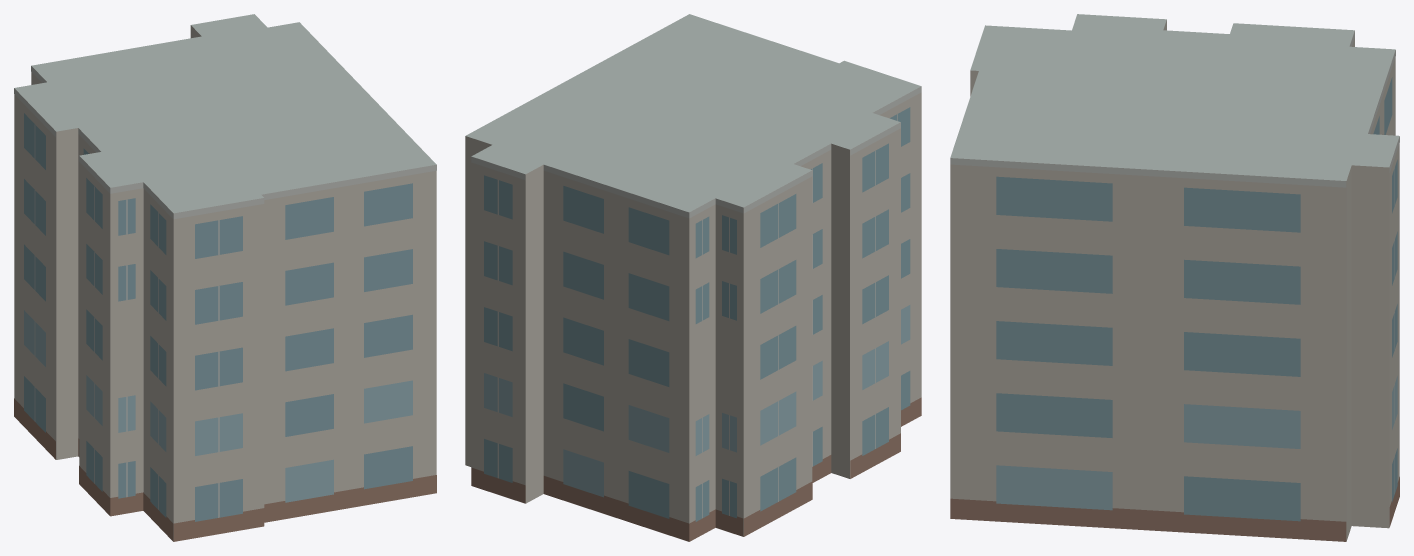
File: survey-upis-32789722.glb
3 views of the same model, side by side, from view 1: azimuth 30°, elevation 25°; view 2: azimuth 150°, elevation 25°; view 3: azimuth 270°, elevation 25° (orthographic). The views are drawn at different scales.
Parts seen in each view (by area): view 1: survey-upis-32789722.tmp; view 2: survey-upis-32789722.tmp; view 3: survey-upis-32789722.tmp.
Part boxes in pixels (box(x1,y1,x2,y2)): survey-upis-32789722.tmp: box(14, 14, 436, 541); survey-upis-32789722.tmp: box(465, 14, 921, 541); survey-upis-32789722.tmp: box(950, 14, 1399, 541).
Bounding box in the file's own units: 13.32 × 13.4 × 15.14.
